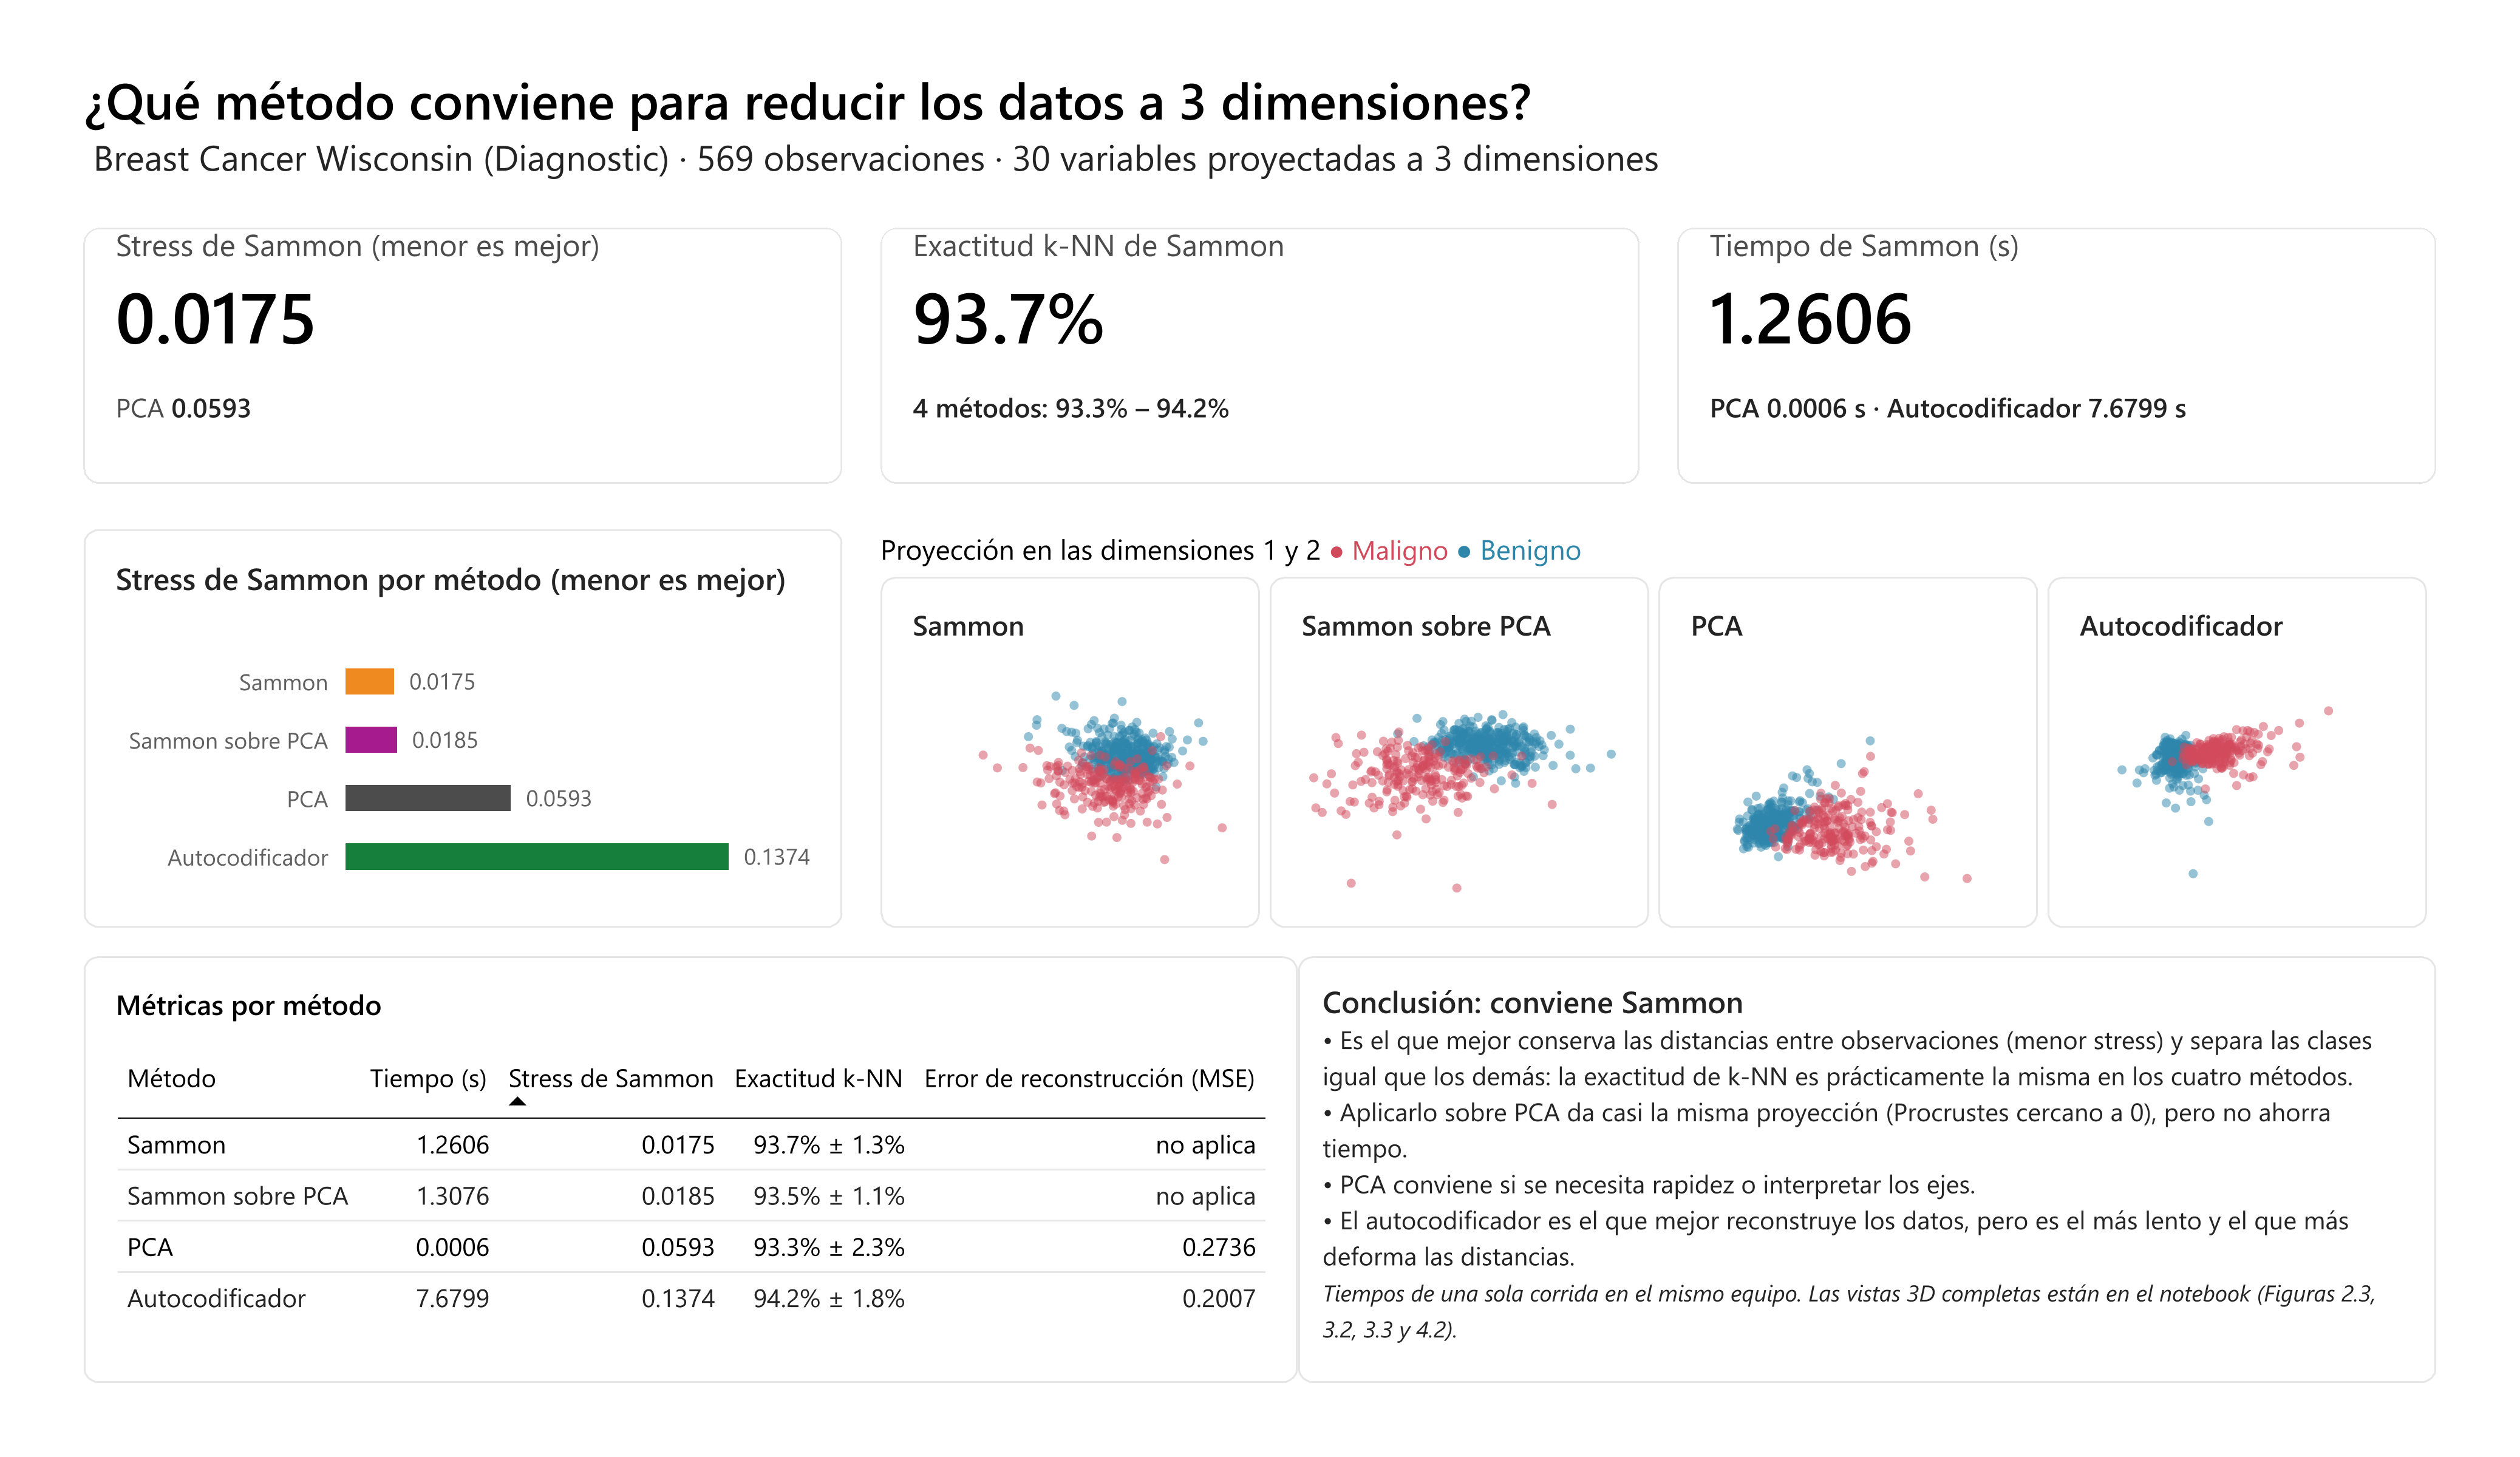

The dashboard page shown, as its layout file describes it:
{"tool":"powerbi","page":{"name":"Page 1","canvas":[1280,720],"ordinal":0},"visuals":[{"type":"textbox","box":[20,10,1240,90],"z":0},{"type":"cardVisual","fields":{"Data":["comparativa.Stress Sammon"]},"box":[20.1,96,400,135],"z":1000},{"type":"cardVisual","fields":{"Data":["comparativa.kNN Sammon"]},"box":[440.1,96,400,135],"z":2000},{"type":"cardVisual","fields":{"Data":["comparativa.Tiempo Sammon"]},"box":[860,96,400,135],"z":3000},{"type":"clusteredBarChart","title":"Stress de Sammon por método (menor es mejor)","fields":{"Category":["comparativa.metodo"],"Y":["Sum(comparativa.stress_sammon)"]},"box":[20,255,400,210],"z":4000},{"type":"textbox","box":[440,255,820,25],"z":5000},{"type":"scatterChart","title":"Sammon","fields":{"Category":["proyecciones.Index"],"Series":["proyecciones.Clase"],"X":["Sum(proyecciones.Dim1)"],"Y":["Sum(proyecciones.Dim2)"]},"box":[440,280,200,185],"z":6000},{"type":"scatterChart","title":"Sammon sobre PCA","fields":{"Category":["proyecciones.Index"],"Series":["proyecciones.Clase"],"X":["Sum(proyecciones.Dim1)"],"Y":["Sum(proyecciones.Dim2)"]},"box":[645,280,200,185],"z":7000},{"type":"scatterChart","title":"PCA","fields":{"Category":["proyecciones.Index"],"Series":["proyecciones.Clase"],"X":["Sum(proyecciones.Dim1)"],"Y":["Sum(proyecciones.Dim2)"]},"box":[850,280,200,185],"z":8000},{"type":"scatterChart","title":"Autocodificador","fields":{"Category":["proyecciones.Index"],"Series":["proyecciones.Clase"],"X":["Sum(proyecciones.Dim1)"],"Y":["Sum(proyecciones.Dim2)"]},"box":[1055,280,200,185],"z":9000},{"type":"tableEx","title":"Métricas por método","fields":{"Values":["comparativa.metodo","comparativa.Tiempo (s)","comparativa.Stress","comparativa.Exactitud k-NN","comparativa.Error reconstrucción"]},"box":[20,480,640,225],"z":10000},{"type":"textbox","box":[660,480,600,225],"z":11000}]}

Visuals, with their boxes on the page's 1280x720 design canvas (x1, y1, x2, y2). These are canvas units, not pixel positions in the 2520x1457 screenshot, which may show the page scaled, cropped or inside an application window:
textbox: bbox=[20, 10, 1260, 100]
cardVisual - comparativa.Stress Sammon: bbox=[20, 96, 420, 231]
cardVisual - comparativa.kNN Sammon: bbox=[440, 96, 840, 231]
cardVisual - comparativa.Tiempo Sammon: bbox=[860, 96, 1260, 231]
"Stress de Sammon por método (menor es mejor)" clusteredBarChart: bbox=[20, 255, 420, 465]
textbox: bbox=[440, 255, 1260, 280]
"Sammon" scatterChart: bbox=[440, 280, 640, 465]
"Sammon sobre PCA" scatterChart: bbox=[645, 280, 845, 465]
"PCA" scatterChart: bbox=[850, 280, 1050, 465]
"Autocodificador" scatterChart: bbox=[1055, 280, 1255, 465]
"Métricas por método" tableEx: bbox=[20, 480, 660, 705]
textbox: bbox=[660, 480, 1260, 705]
